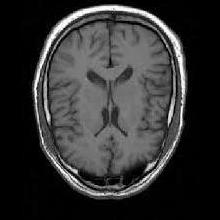Normal_Brain: (23, 7, 196, 218)
